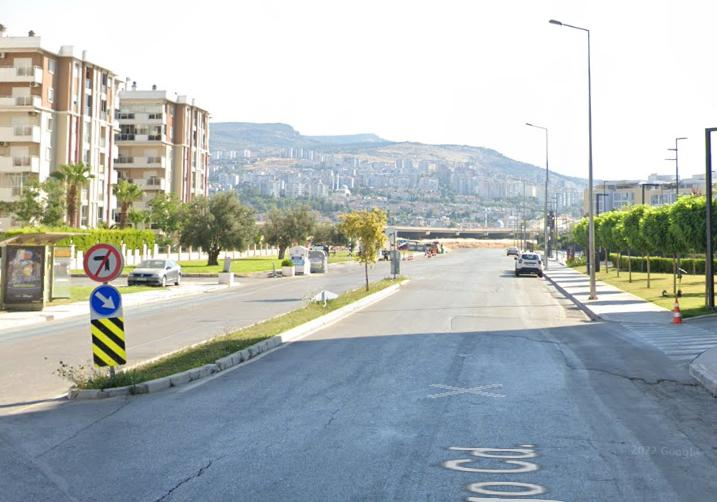leftturnsareforbidden: (82, 244, 123, 281)
